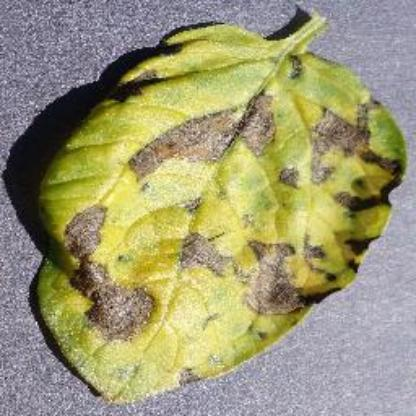Early-Blight: (28, 10, 408, 404)
